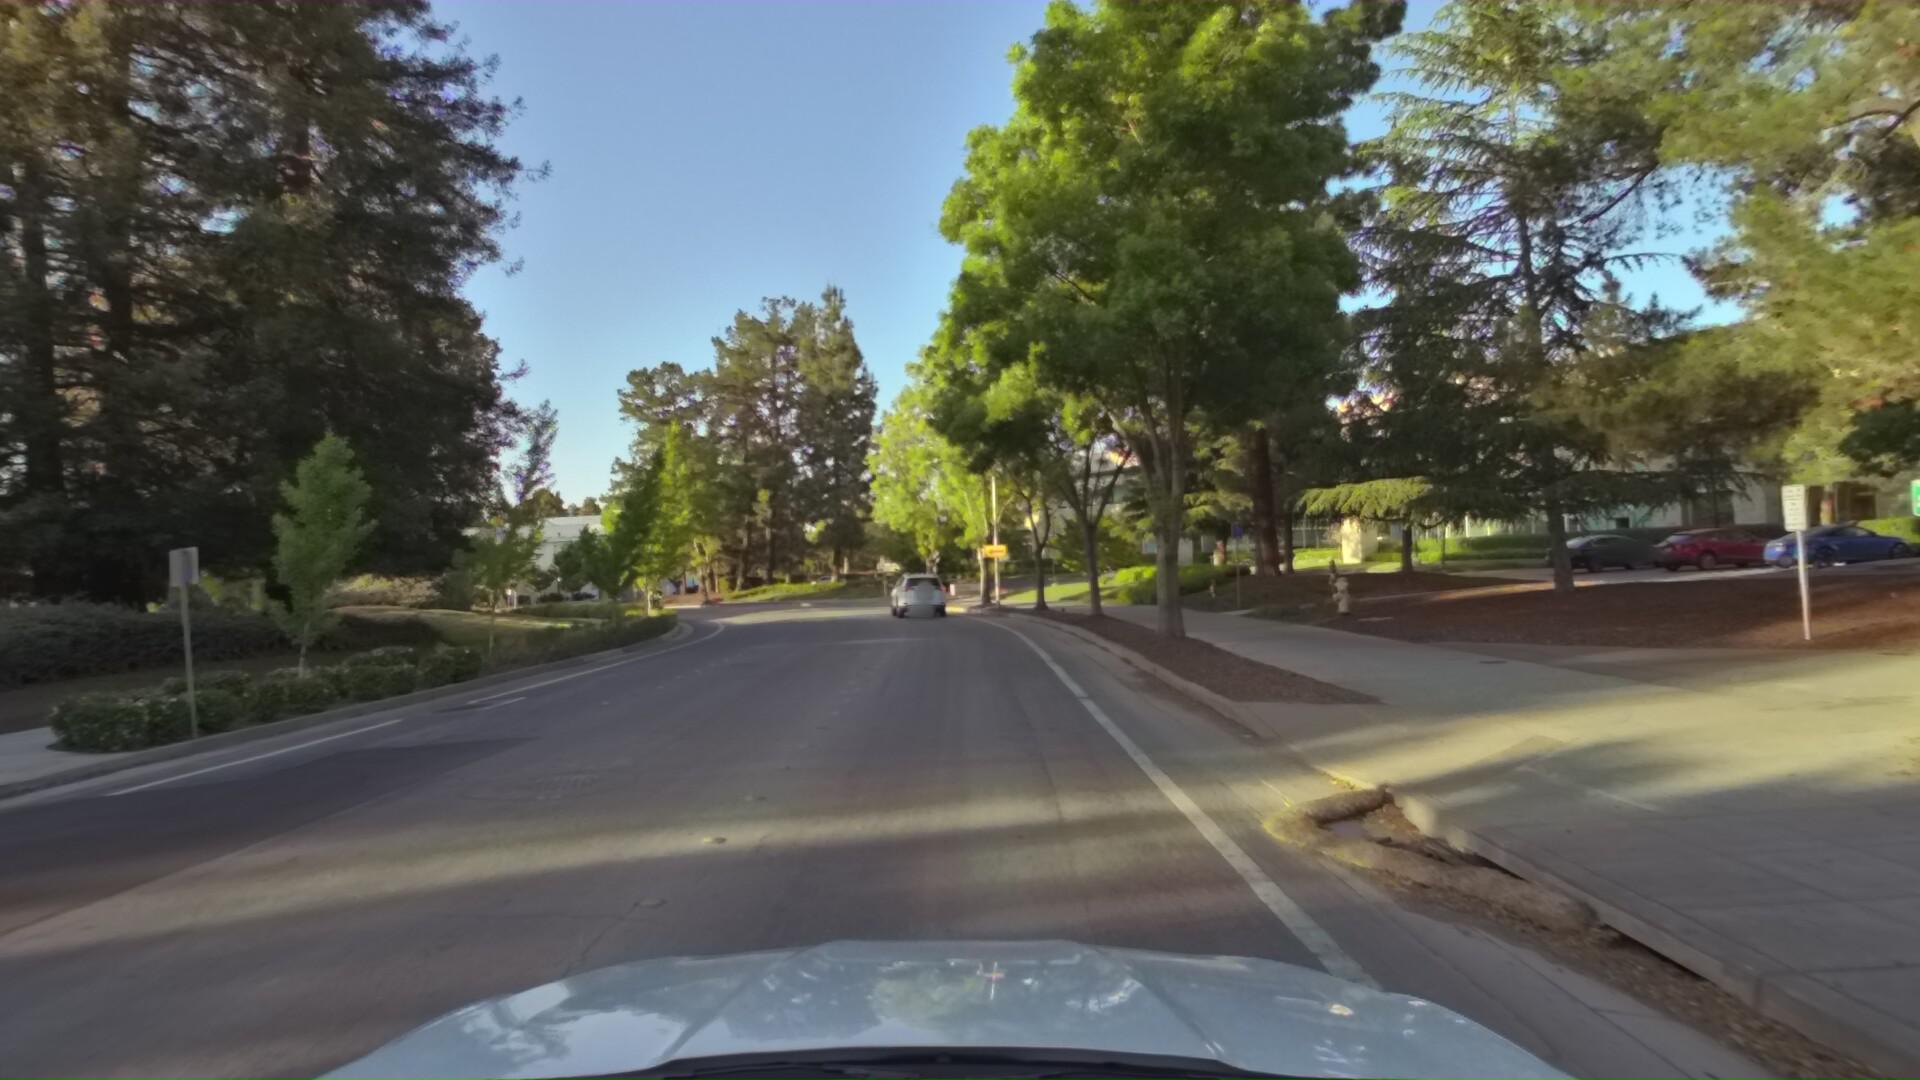bicycle: (644, 588, 666, 621)
car: (882, 566, 951, 618)
